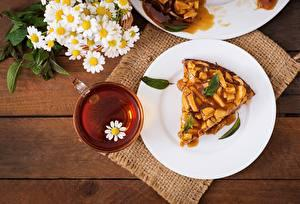chamomile: (111, 32, 137, 53), (92, 15, 113, 36), (51, 1, 71, 22), (89, 28, 114, 44), (106, 35, 126, 55), (65, 30, 88, 47), (55, 16, 77, 31), (104, 122, 124, 138), (78, 16, 93, 37), (83, 55, 104, 69), (27, 28, 40, 49), (68, 48, 85, 60)
